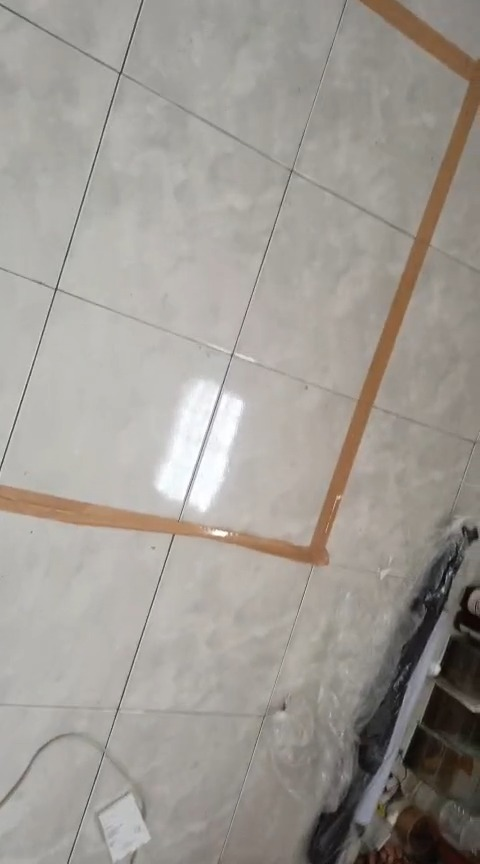floor marking: (0, 0, 479, 564)
